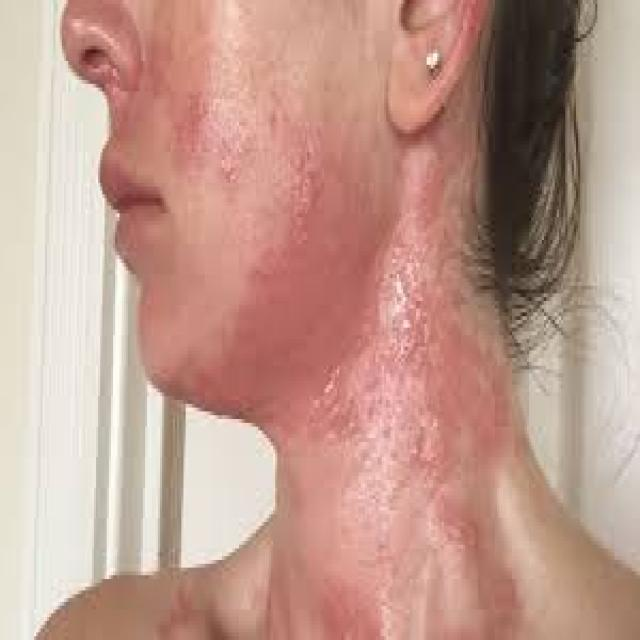Acanthosis Nigricans: (247, 214, 543, 599)
